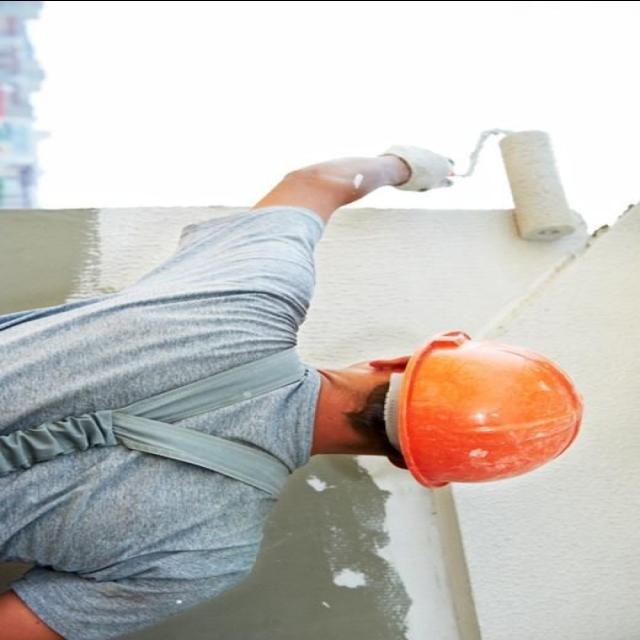helmet: (390, 328, 597, 500)
